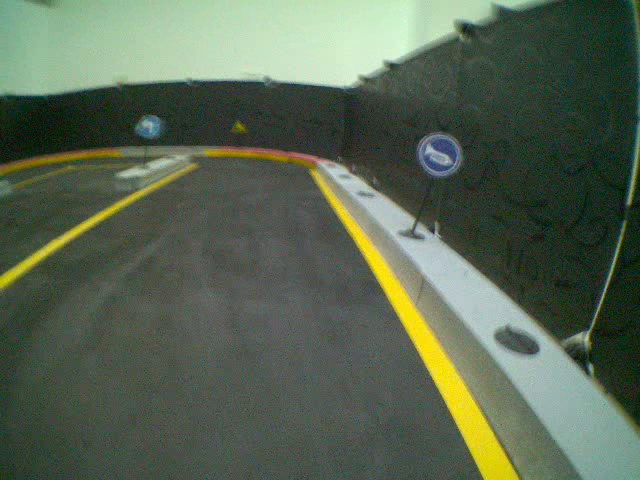fast: (418, 132, 465, 178), (230, 120, 245, 134)
turn: (138, 113, 161, 138)
